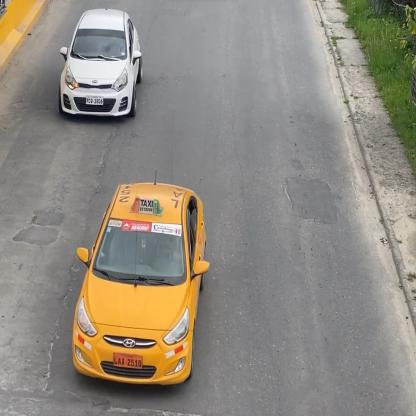Placa: (112, 353, 145, 373), (85, 94, 104, 107)
